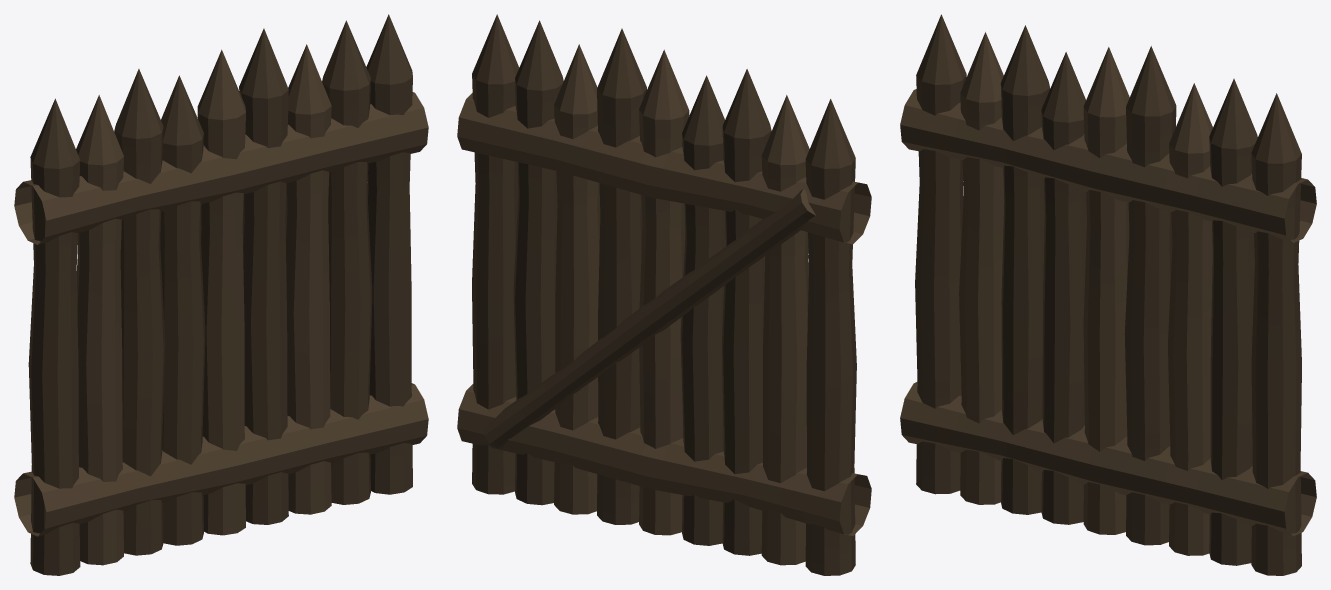
Rendered from Wall_V2.fbx.
3 views of the same model, side by side, from view 1: azimuth 30°, elevation 25°; view 2: azimuth 150°, elevation 25°; view 3: azimuth 330°, elevation 25° (orthographic).
Parts seen in each view (by area): view 1: pCylinder19, pCylinder25, pCylinder26, pCylinder17, pCylinder15, pCylinder18, pCylinder16, pCylinder20, pCylinder24, pCylinder21, pCylinder14; view 2: pCylinder19, pCylinder25, pCylinder26, pCylinder21, pCylinder18, pCylinder17, pCylinder15, pCylinder24, pCylinder16, pCylinder20, pCylinder14, pCylinder27; view 3: pCylinder21, pCylinder25, pCylinder26, pCylinder17, pCylinder19, pCylinder15, pCylinder16, pCylinder24, pCylinder14, pCylinder18, pCylinder20.
Boxes of the visible parts, x1=… form: pCylinder19: x1=28, y1=98, x2=80, y2=575; pCylinder25: x1=14, y1=92, x2=428, y2=244; pCylinder26: x1=14, y1=383, x2=428, y2=536; pCylinder17: x1=239, y1=28, x2=288, y2=524; pCylinder15: x1=114, y1=69, x2=165, y2=555; pCylinder18: x1=76, y1=95, x2=123, y2=565; pCylinder16: x1=197, y1=49, x2=245, y2=535; pCylinder20: x1=285, y1=44, x2=331, y2=514; pCylinder24: x1=322, y1=20, x2=372, y2=504; pCylinder21: x1=366, y1=14, x2=412, y2=494; pCylinder14: x1=160, y1=75, x2=205, y2=545; pCylinder19: x1=805, y1=99, x2=856, y2=575; pCylinder25: x1=457, y1=93, x2=871, y2=244; pCylinder26: x1=457, y1=384, x2=871, y2=535; pCylinder21: x1=472, y1=14, x2=519, y2=494; pCylinder18: x1=761, y1=95, x2=809, y2=565; pCylinder17: x1=597, y1=28, x2=646, y2=524; pCylinder15: x1=722, y1=69, x2=771, y2=555; pCylinder24: x1=513, y1=20, x2=563, y2=505; pCylinder16: x1=639, y1=49, x2=689, y2=535; pCylinder20: x1=554, y1=44, x2=600, y2=514; pCylinder14: x1=680, y1=75, x2=725, y2=545; pCylinder27: x1=483, y1=188, x2=815, y2=448; pCylinder21: x1=1251, y1=93, x2=1301, y2=575; pCylinder25: x1=900, y1=89, x2=1316, y2=242; pCylinder26: x1=900, y1=382, x2=1316, y2=536; pCylinder17: x1=1124, y1=46, x2=1176, y2=545; pCylinder19: x1=915, y1=14, x2=966, y2=494; pCylinder15: x1=1000, y1=25, x2=1050, y2=514; pCylinder16: x1=1083, y1=47, x2=1129, y2=534; pCylinder24: x1=1209, y1=78, x2=1257, y2=565; pCylinder14: x1=1041, y1=52, x2=1086, y2=524; pCylinder18: x1=959, y1=32, x2=1004, y2=504; pCylinder20: x1=1168, y1=83, x2=1212, y2=555.
Bounding box in the file's own units: 36.5 × 44.4 × 5.72.
